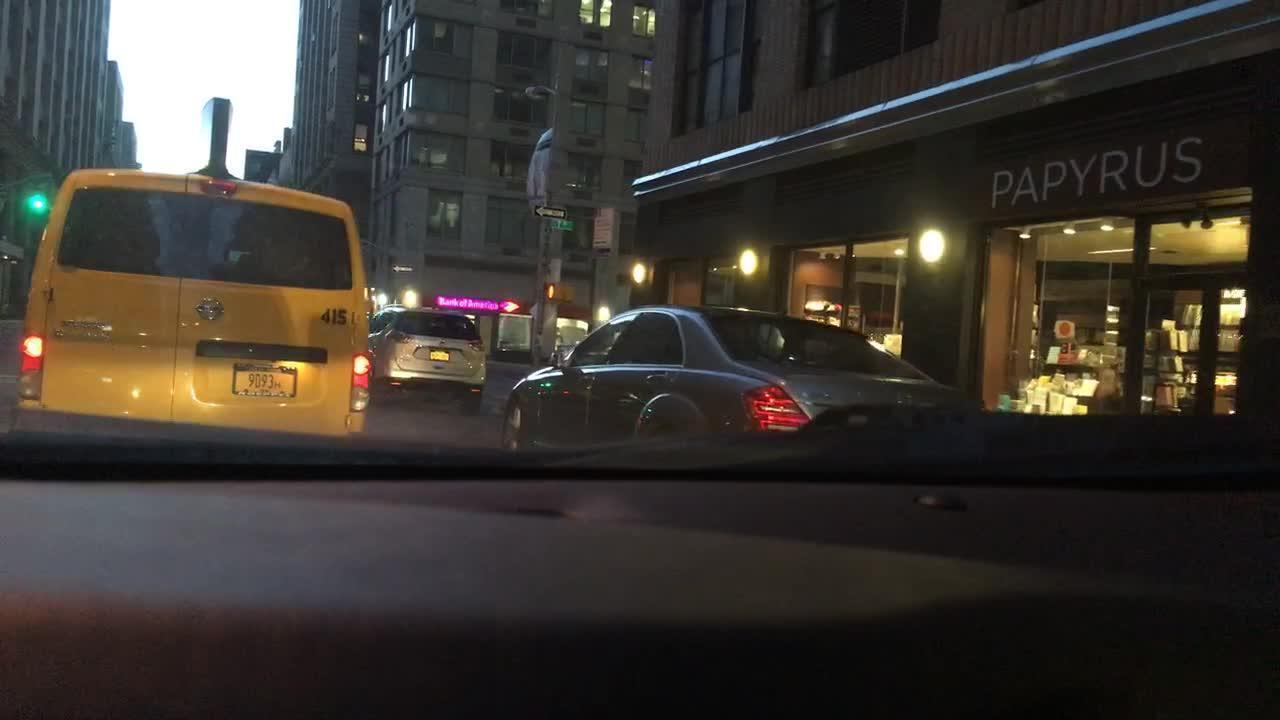Nissan: (190, 292, 227, 327)
